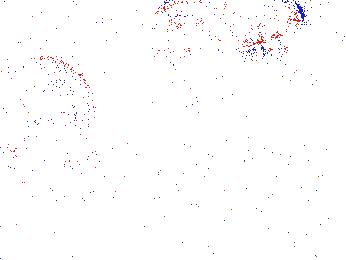moon jellyfish: (1, 59, 96, 171), (163, 132, 258, 219), (136, 1, 237, 44), (221, 1, 304, 53), (307, 73, 346, 167)
